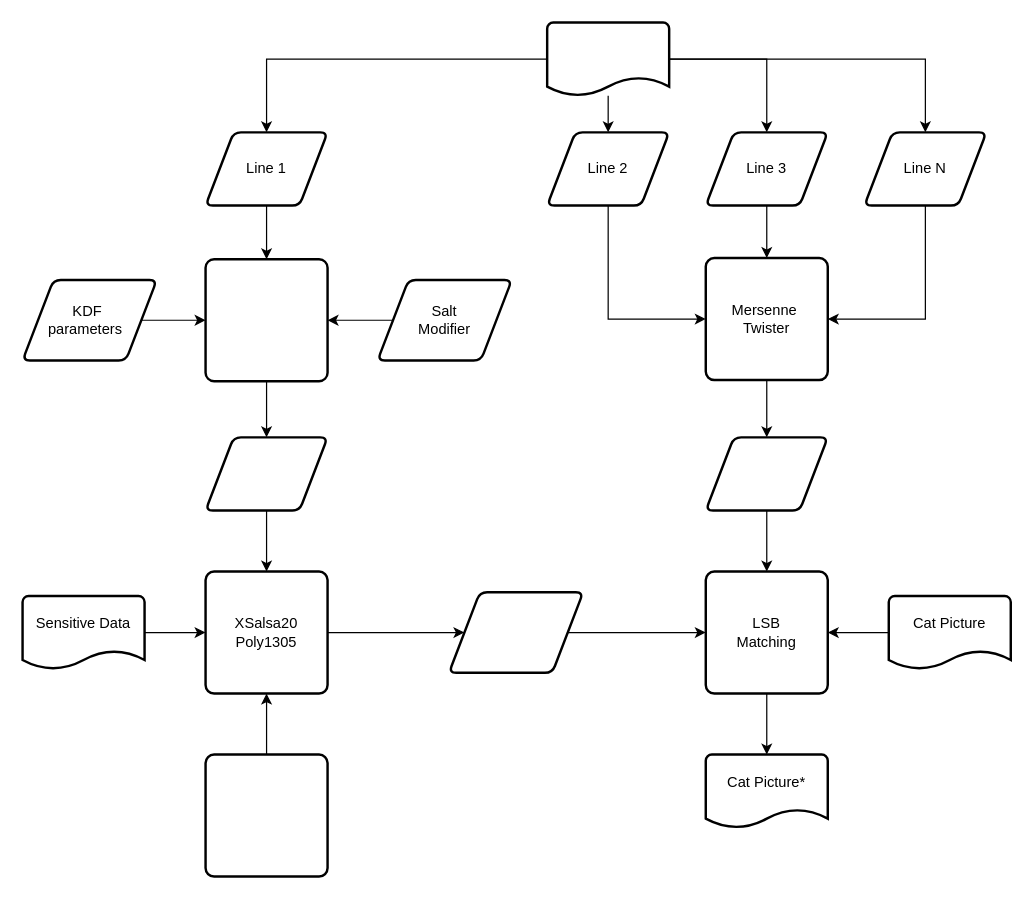
Image size: 1032x898. Some labels were removed from this diagram. The shapes that lost their labels are listed below. From the top down, each one's centre as x and y in pixels, then its label:
point (607, 58): The Holy Bible
point (266, 319): Blake2b Argon2id
point (266, 473): Key
point (766, 473): Seed
point (515, 631): Nonce Ciphertext MAC
point (266, 815): Random Number Generator
